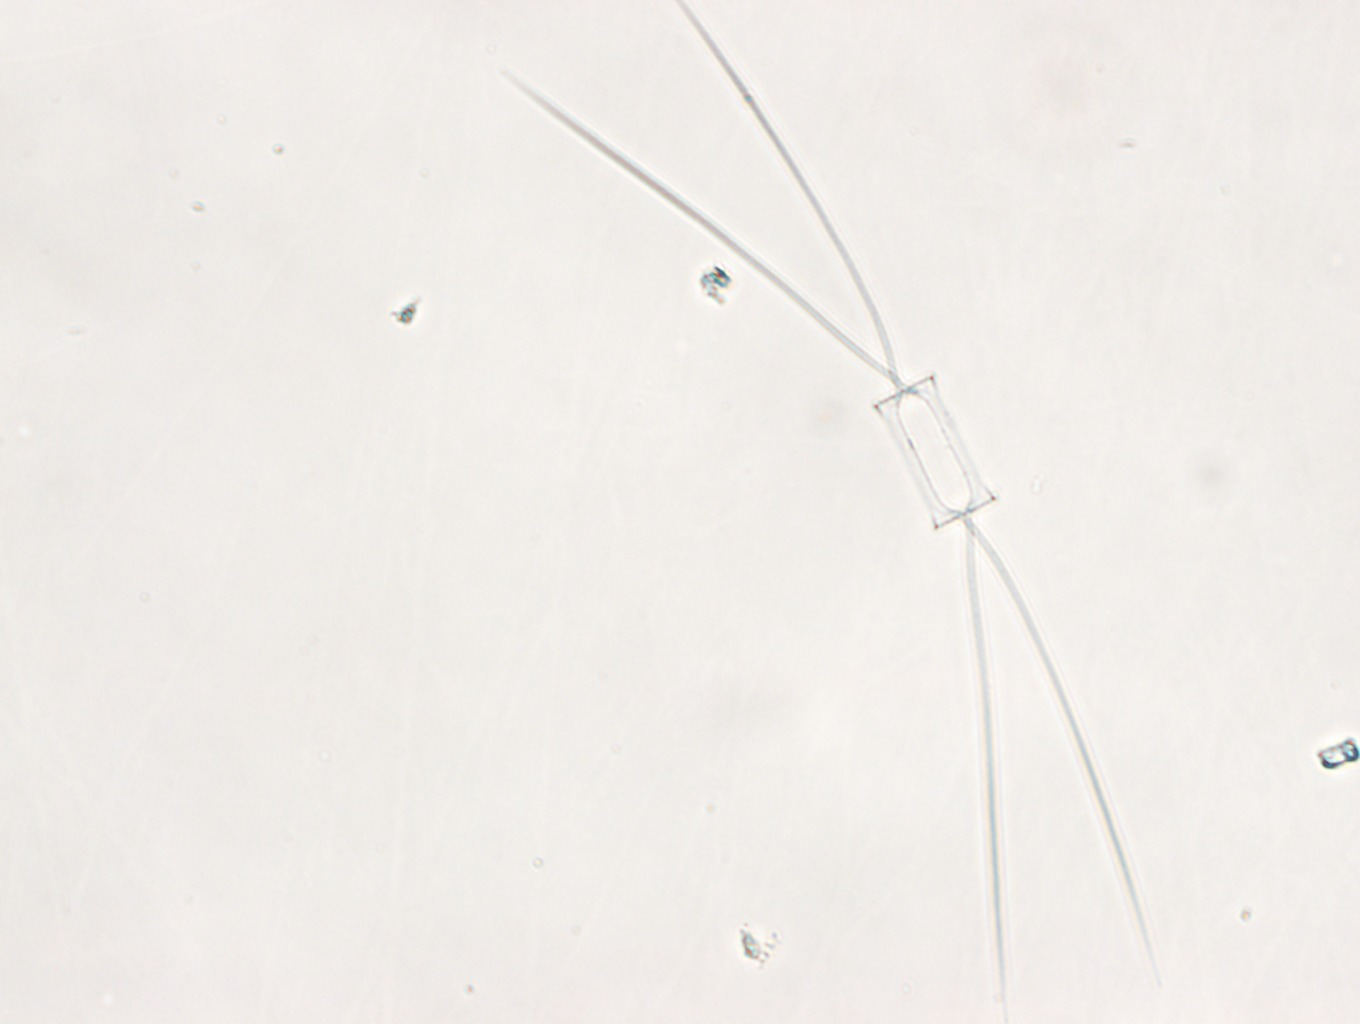chaetoceros: (499, 1, 1155, 1016)
